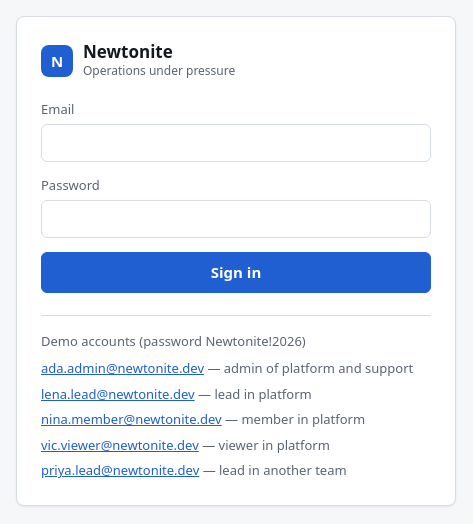
LoginPage › fills the form from a demo account without submitting it
The width and height of the screenshot is (473, 524).
Click the button "nina.member@newtonite.dev": [131, 420] box left=41, top=410, right=222, bottom=430
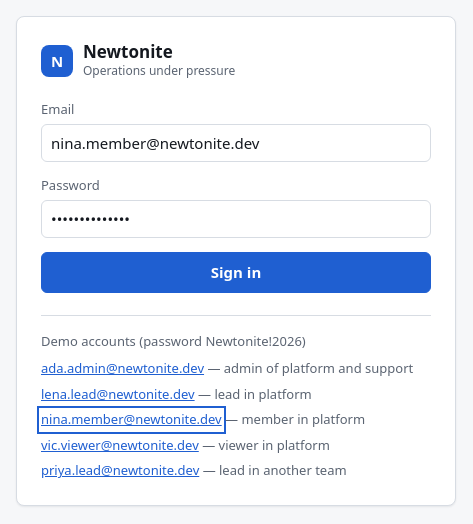
Result: the field labelled "Email" holds "nina.member@newtonite.dev" at left=41, top=124, right=431, bottom=162
Result: the password field labelled "Password" holds "Newtonite!2026" at left=41, top=200, right=431, bottom=238
